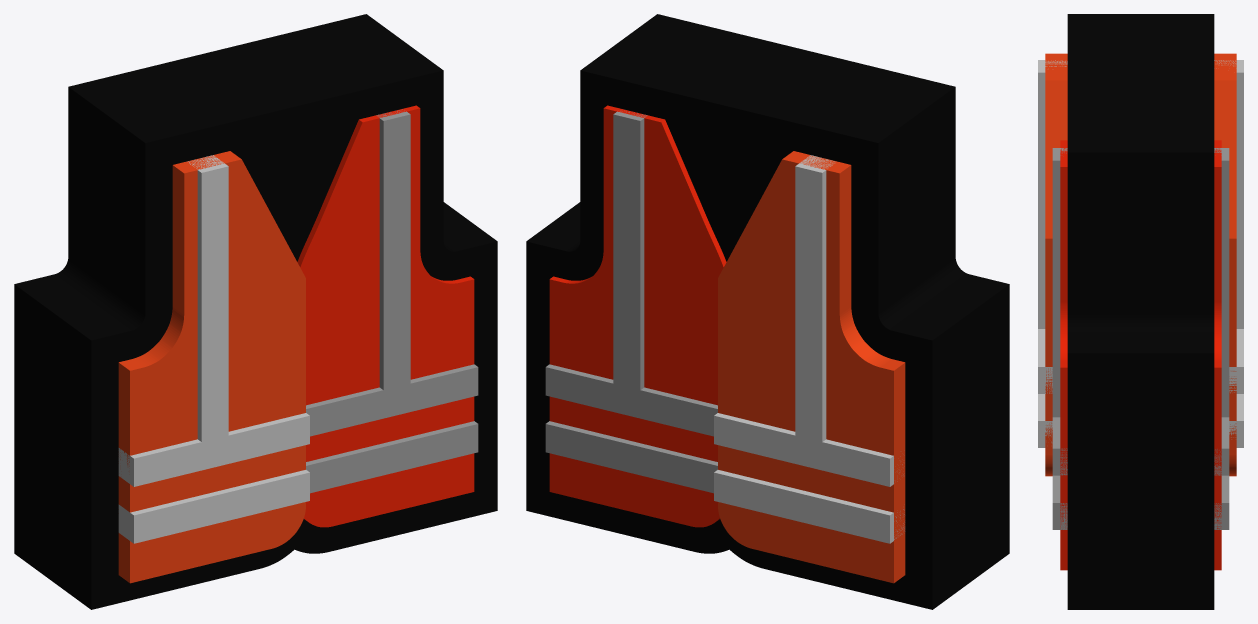
The picture shows the model from 3 angles, left to right: view 1: azimuth 30°, elevation 25°; view 2: azimuth 150°, elevation 25°; view 3: azimuth 270°, elevation 25°; orthographic projection. The views are drawn at different scales.
Visible parts, largest first — view 1: U+1F9BA_layer00_obj00, U+1F9BA_layer03_obj00, U+1F9BA_layer01_obj00, U+1F9BA_layer04_obj00, U+1F9BA_layer02_obj00; view 2: U+1F9BA_layer00_obj00, U+1F9BA_layer03_obj00, U+1F9BA_layer01_obj00, U+1F9BA_layer04_obj00, U+1F9BA_layer02_obj00; view 3: U+1F9BA_layer00_obj00, U+1F9BA_layer03_obj00, U+1F9BA_layer02_obj00, U+1F9BA_layer04_obj00, U+1F9BA_layer01_obj00.
Boxes of the visible parts, x1,y1,x2,y2 form: U+1F9BA_layer00_obj00: [14, 14, 497, 609]; U+1F9BA_layer03_obj00: [118, 151, 305, 583]; U+1F9BA_layer01_obj00: [297, 105, 474, 527]; U+1F9BA_layer04_obj00: [118, 155, 309, 543]; U+1F9BA_layer02_obj00: [306, 109, 478, 493]; U+1F9BA_layer00_obj00: [526, 14, 1009, 609]; U+1F9BA_layer03_obj00: [718, 151, 905, 583]; U+1F9BA_layer01_obj00: [549, 105, 726, 527]; U+1F9BA_layer04_obj00: [714, 155, 905, 543]; U+1F9BA_layer02_obj00: [545, 110, 717, 493]; U+1F9BA_layer00_obj00: [1067, 14, 1214, 609]; U+1F9BA_layer03_obj00: [1045, 53, 1236, 476]; U+1F9BA_layer02_obj00: [1052, 148, 1229, 529]; U+1F9BA_layer04_obj00: [1038, 60, 1243, 447]; U+1F9BA_layer01_obj00: [1060, 140, 1221, 570].
Size of the model in its own units: 0.6085 by 0.649 by 0.28.
